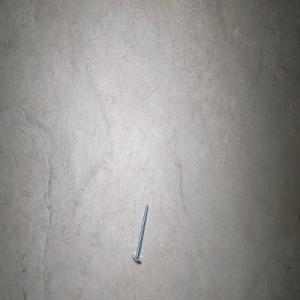Bolt: (132, 202, 148, 263)
